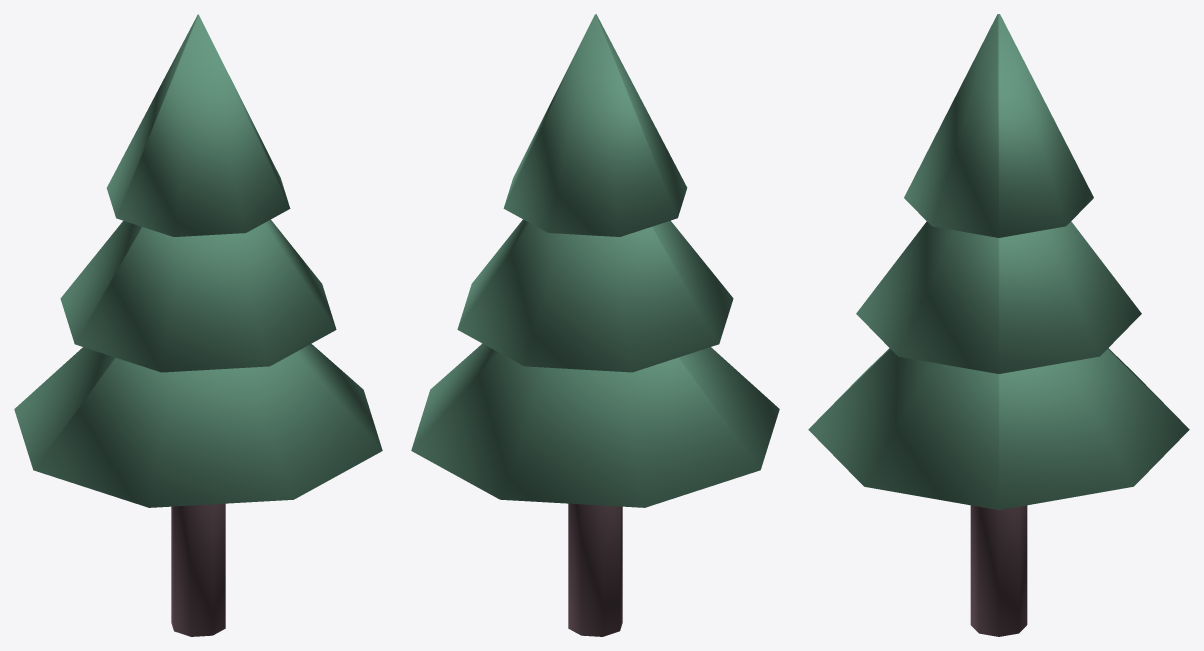
File: SM_Neroberg_Pine_LOD3.fbx
The picture shows the model from 3 angles, left to right: view 1: azimuth 30°, elevation 25°; view 2: azimuth 150°, elevation 25°; view 3: azimuth 270°, elevation 25°; orthographic projection.
Parts seen in each view (by area): view 1: SM_Neroberg_Pine_LOD3; view 2: SM_Neroberg_Pine_LOD3; view 3: SM_Neroberg_Pine_LOD3.
Part boxes in pixels (x1,y1,x2,y2): SM_Neroberg_Pine_LOD3: (14,14,382,636); SM_Neroberg_Pine_LOD3: (411,14,779,636); SM_Neroberg_Pine_LOD3: (808,14,1189,636).
Bounding box in the file's own units: 2.39 × 4.22 × 2.39.
